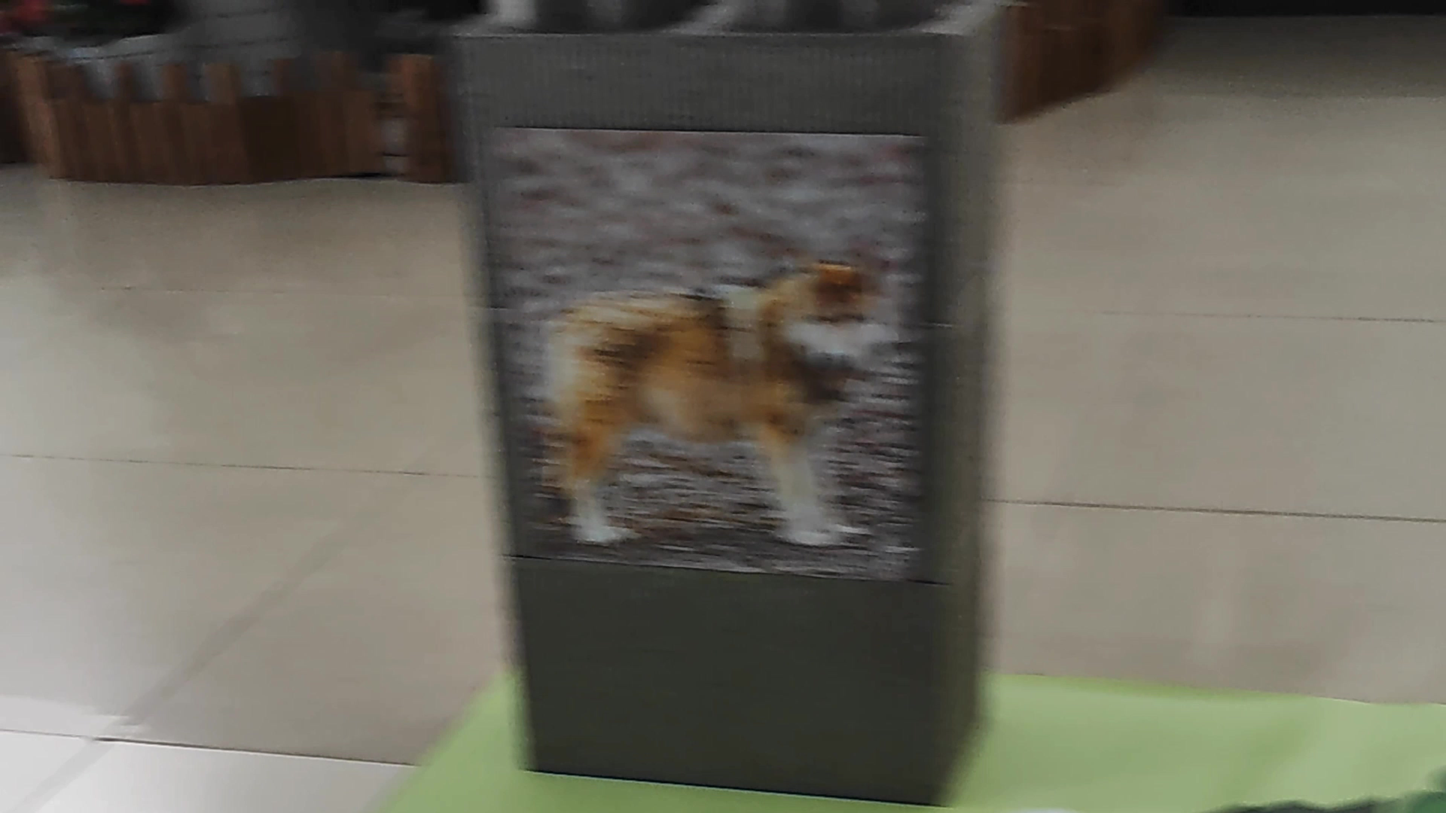wolf: (517, 235, 934, 568)
